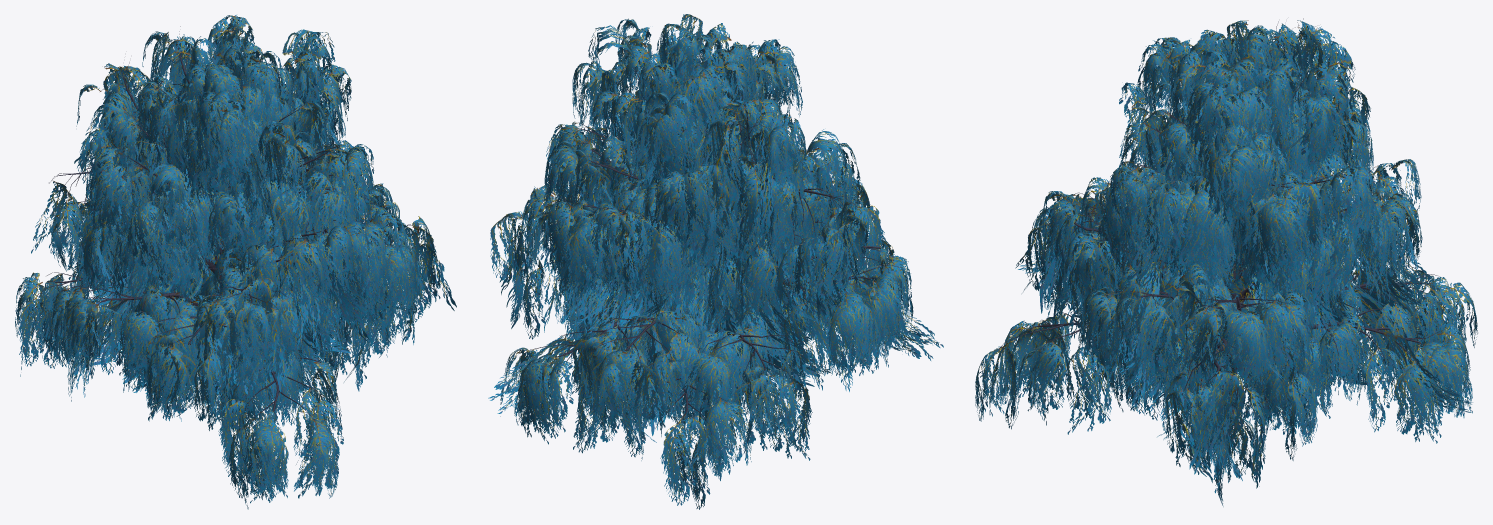
3 views of the same model, side by side, from view 1: azimuth 30°, elevation 25°; view 2: azimuth 150°, elevation 25°; view 3: azimuth 270°, elevation 25° (orthographic). The views are drawn at different scales.
Visible parts, largest first — view 1: SM_Willow_03_Canopy_LOD0; view 2: SM_Willow_03_Canopy_LOD0; view 3: SM_Willow_03_Canopy_LOD0.
Part boxes in pixels (<box>): SM_Willow_03_Canopy_LOD0: <box>15,15,456,509</box>; SM_Willow_03_Canopy_LOD0: <box>488,14,943,509</box>; SM_Willow_03_Canopy_LOD0: <box>975,18,1477,506</box>.
Size of the model in its own units: 19.24 by 18.11 by 19.17.
1 material, 1 textured.
